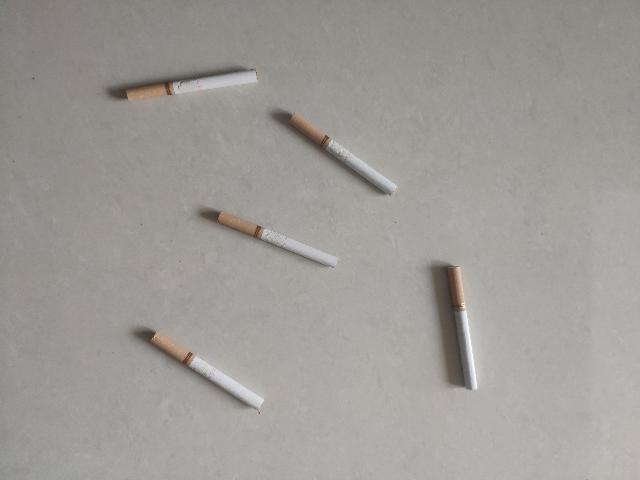Cigarette: (290, 112, 400, 196), (152, 332, 266, 410), (217, 212, 339, 268), (126, 68, 260, 102), (448, 266, 479, 392)
